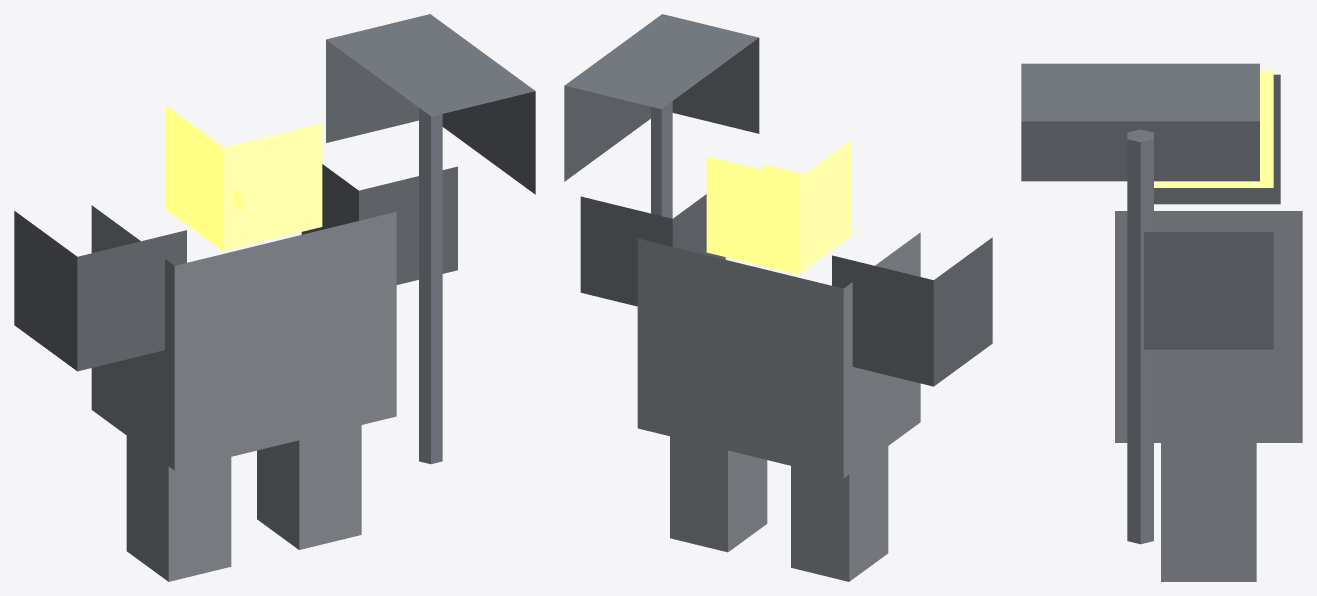
File: hero_brakk.glb
3 renders of one model, left to right at view 1: azimuth 30°, elevation 25°; view 2: azimuth 150°, elevation 25°; view 3: azimuth 270°, elevation 25°, orthographic. The views are drawn at different scales.
Visible parts, largest first — view 1: Torso, Weapon, LeftArm, Head, LeftLeg, RightLeg, RightArm; view 2: Torso, Weapon, LeftArm, Head, LeftLeg, RightLeg, RightArm; view 3: Weapon, Torso, RightArm, RightLeg, LeftArm, Head.
Part boxes in pixels (box(x1,y1,x2,y2)): Torso: box(91, 205, 396, 470); Weapon: box(326, 14, 535, 464); LeftArm: box(14, 211, 186, 371); Head: box(166, 105, 322, 250); LeftLeg: box(126, 436, 231, 581); RightLeg: box(257, 425, 361, 549); RightArm: box(301, 164, 457, 284); Torso: box(637, 232, 920, 478); Weapon: box(564, 14, 759, 218); LeftArm: box(832, 237, 992, 386); Head: box(706, 140, 851, 274); LeftLeg: box(791, 446, 888, 581); RightLeg: box(670, 436, 767, 552); RightArm: box(580, 194, 725, 306); Weapon: box(1021, 63, 1259, 544); Torso: box(1115, 211, 1302, 442); RightArm: box(1144, 232, 1273, 349); RightLeg: box(1161, 443, 1256, 581); LeftArm: box(1154, 74, 1280, 204); Head: box(1154, 70, 1273, 187).
Bounding box in the file's own units: 1.56 × 1.69 × 0.825.
